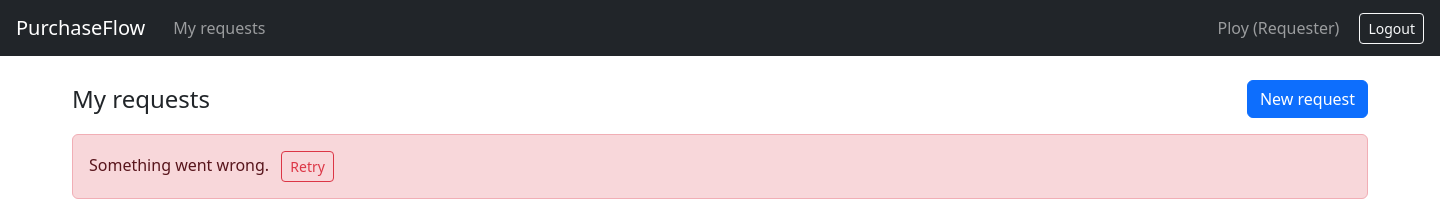
Test: request screens (component) › CT-10: list screens show an empty state and an error state with Retry
The image size is (1440, 216).
Check: the message shows "Something went wrong.", box [89,154,269,176]
Click the button "Retry". click: (308, 166)
box: [281,151,334,182]
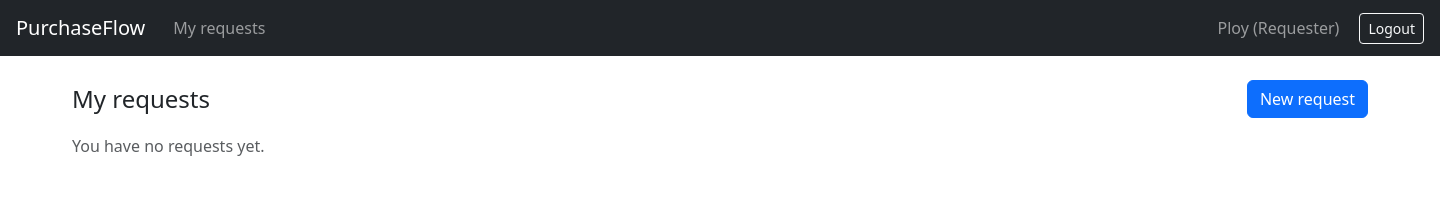
Check: the text "You have no requests yet." is shown, box [72,135,264,157]
